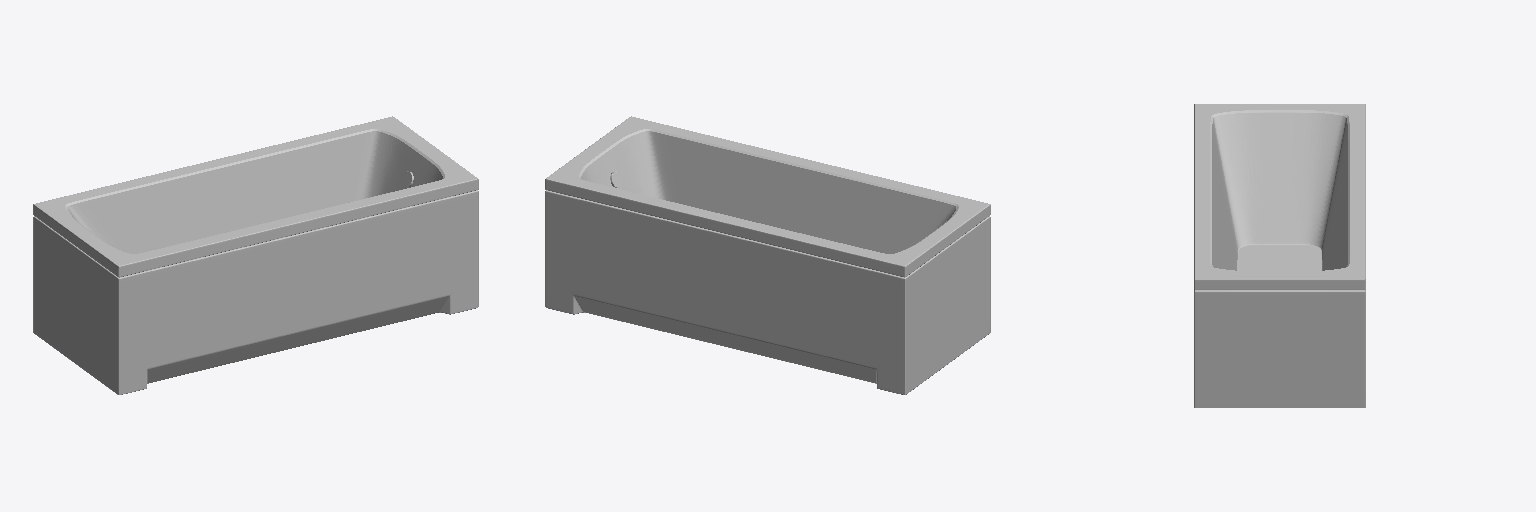
The model's file is bath.obj.
The picture shows the model from 3 angles: view 1: azimuth 30°, elevation 25°; view 2: azimuth 150°, elevation 25°; view 3: azimuth 270°, elevation 25°; orthographic projection.
Visible parts, largest first — view 1: BescoOPTIMA_001, BescoOPTIMA_002; view 2: BescoOPTIMA_001, BescoOPTIMA_002; view 3: BescoOPTIMA_002, BescoOPTIMA_001.
Boxes of the visible parts, x1,y1,x2,y2 form: BescoOPTIMA_001: [33, 190, 478, 394]; BescoOPTIMA_002: [33, 116, 478, 277]; BescoOPTIMA_001: [545, 190, 990, 394]; BescoOPTIMA_002: [545, 116, 990, 277]; BescoOPTIMA_002: [1194, 104, 1365, 289]; BescoOPTIMA_001: [1194, 290, 1365, 407].
Size of the model in its own units: 1700 by 584 by 700.